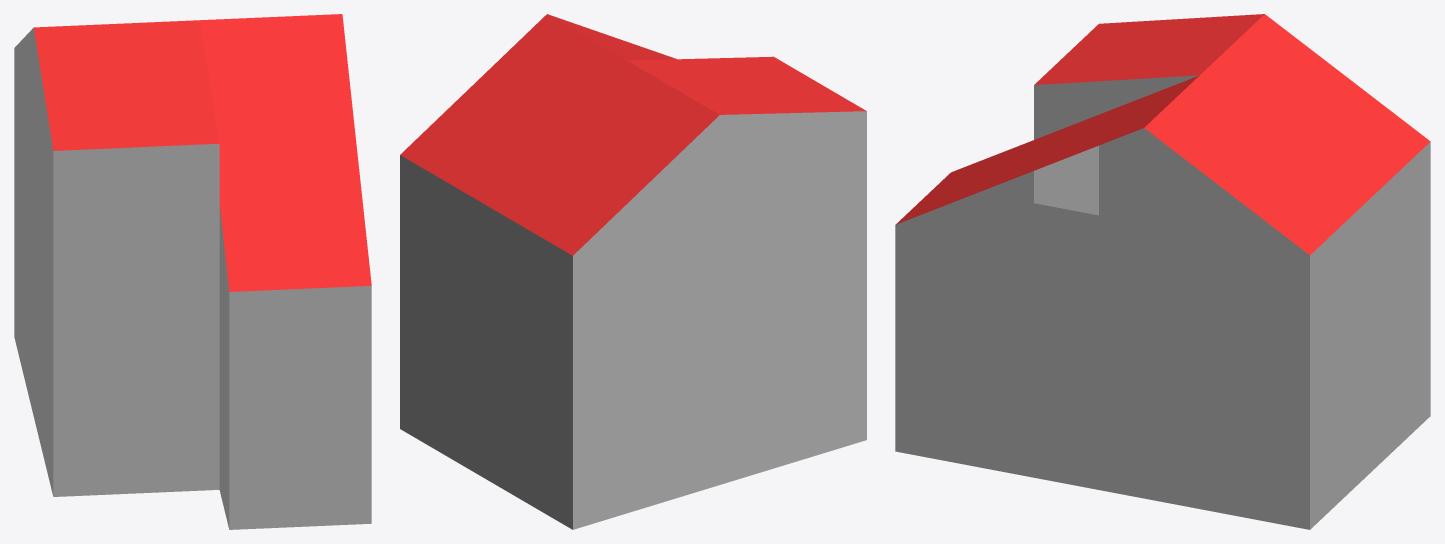
File: pb-9635e7ed-7f36-11f0-b84e-9c7bef4dcf4c.dae
3 views of the same model, side by side, from view 1: azimuth 30°, elevation 25°; view 2: azimuth 150°, elevation 25°; view 3: azimuth 270°, elevation 25° (orthographic). The views are drawn at different scales.
Size of the model in its own units: 9.2 by 11.78 by 9.
